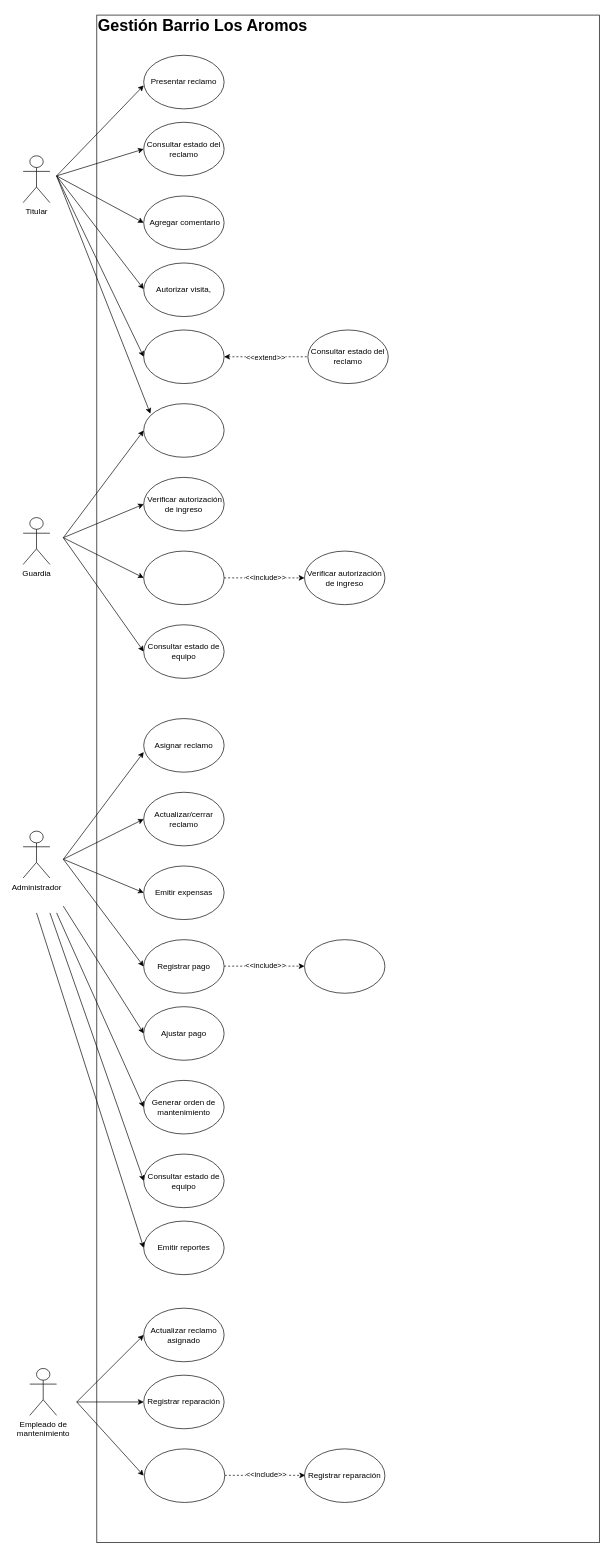
This 611x1554 diagram has some shape labels left out. Each missing label, with the box of its shape:
Calcular saldo e intereses: (304, 939, 385, 993)
cerrar orden: (144, 1448, 225, 1502)
Reabrir reclamo resuelto: (143, 329, 224, 384)
Registrar falla: (143, 403, 224, 457)
Registrar ingreso/egreso: (143, 550, 224, 605)
